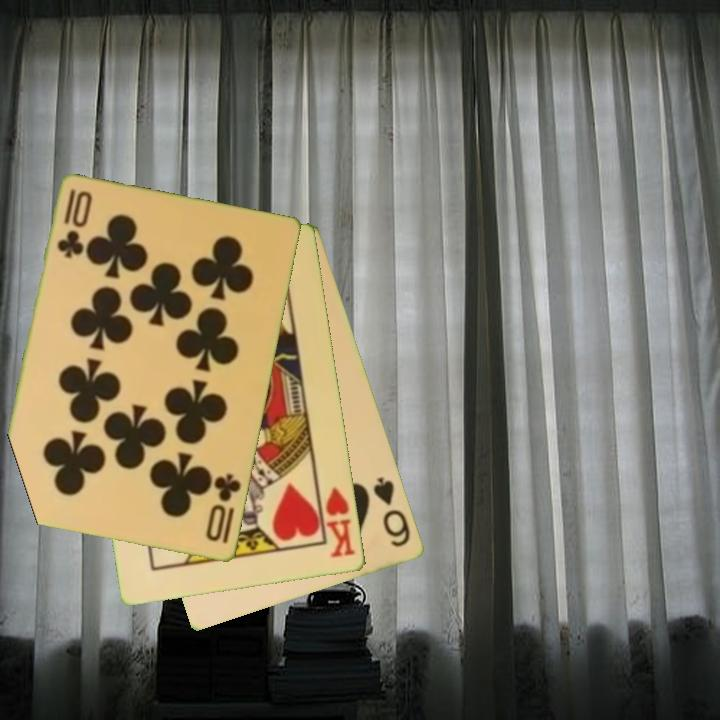10c: (202, 470, 244, 545), (54, 186, 94, 262)
6s: (370, 473, 414, 551)
Kh: (315, 482, 359, 561)
